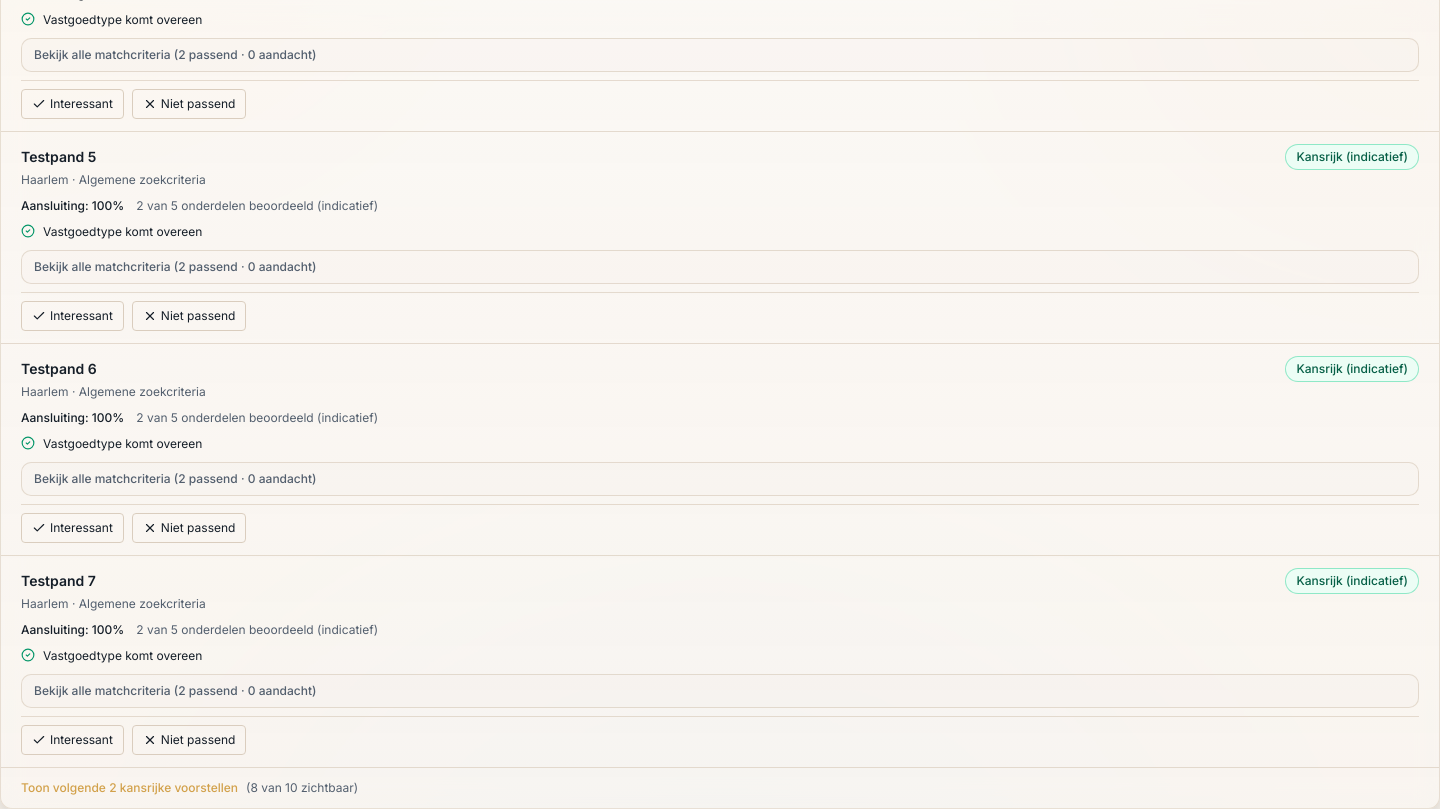
Test: Relaties — objectvoorstellen in productie › houdt de eerste 8 kansrijke voorstellen compact, maar verbergt de rest niet permanent
(page scrolled)
Click the button with test id "meer-kansrijke-voorstellen". click: (65, 787)
box: [1,766,1439,808]
(page scrolled)
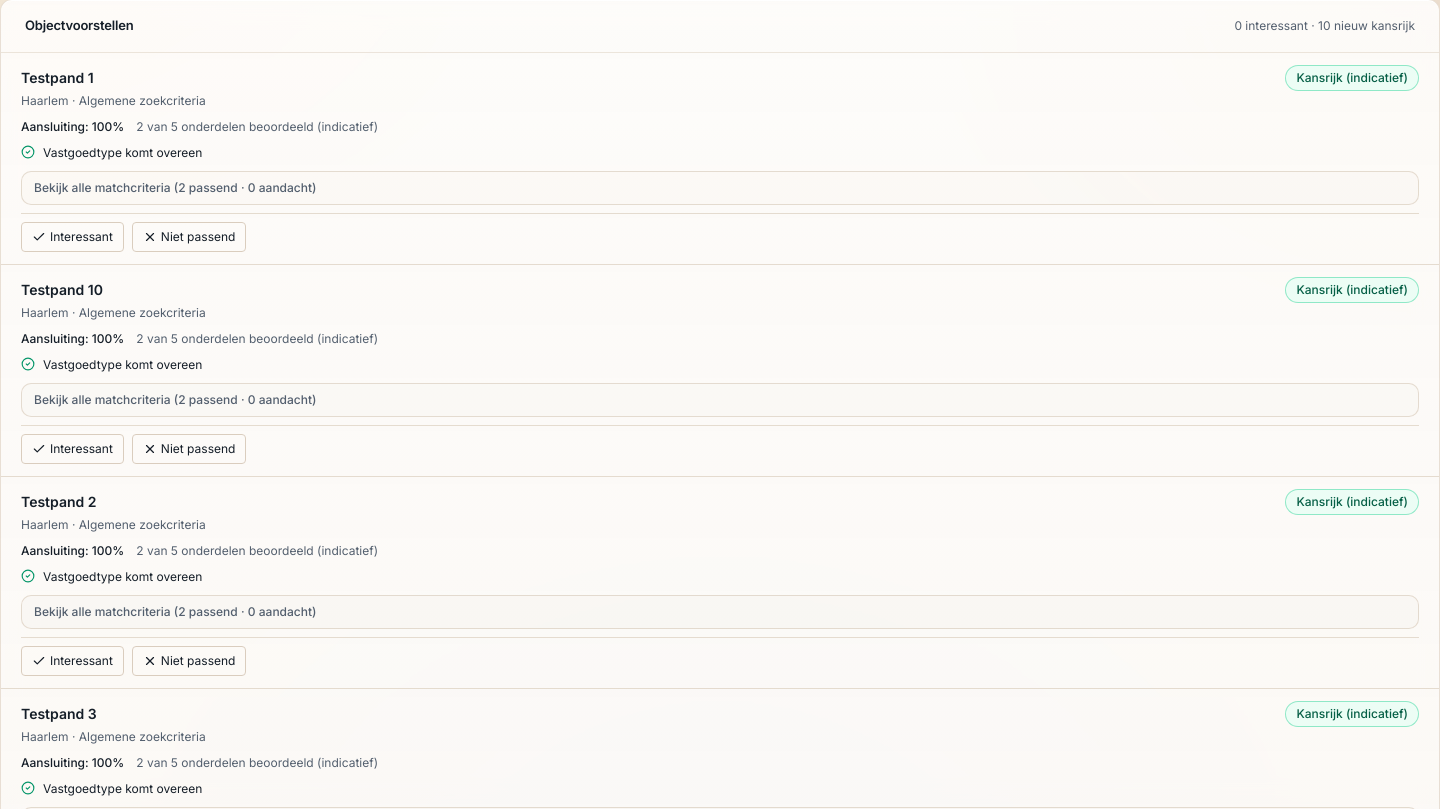
Expected: the link "Testpand 10" is shown, [21,280,103,298]
Expected: the button with test id "meer-kansrijke-voorstellen" is gone
